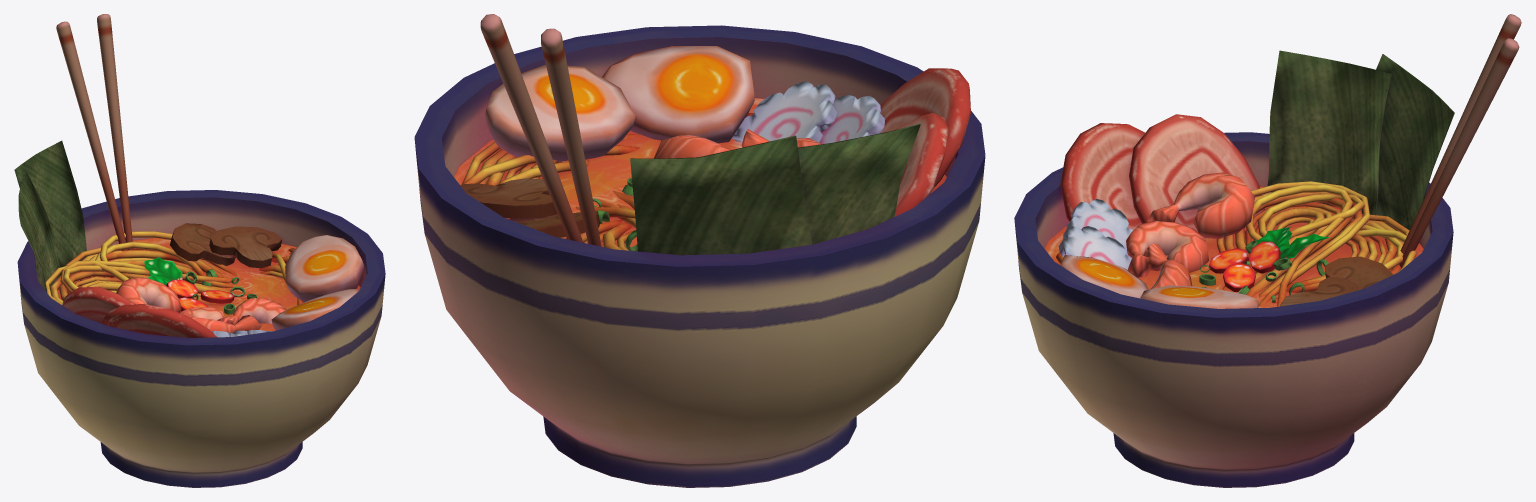
File: Ramen.glb
The picture shows the model from 3 angles, left to right: view 1: azimuth 30°, elevation 25°; view 2: azimuth 150°, elevation 25°; view 3: azimuth 270°, elevation 25°; orthographic projection. The views are drawn at different scales.
Parts seen in each view (by area): view 1: Ramen; view 2: Ramen; view 3: Ramen.
Boxes of the visible parts, x1,y1,x2,y2 form: Ramen: [14, 14, 385, 487]; Ramen: [414, 14, 985, 487]; Ramen: [1014, 14, 1521, 487].
Size of the model in its own units: 0.2282 by 0.2334 by 0.2618.
Materials: 1 (1 with a texture image).
